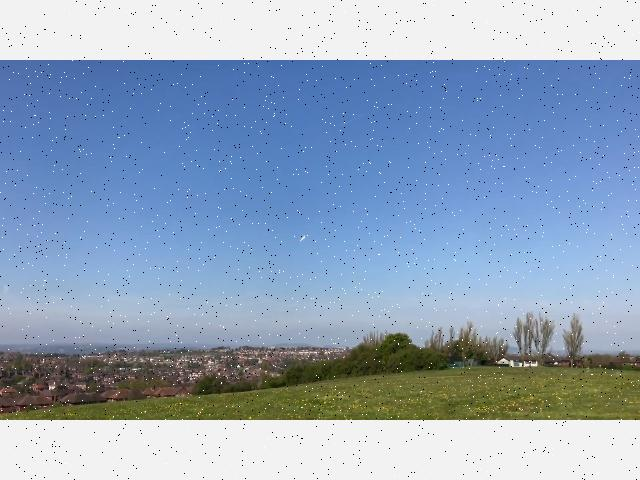Anti-Drone: (288, 229, 308, 247)
